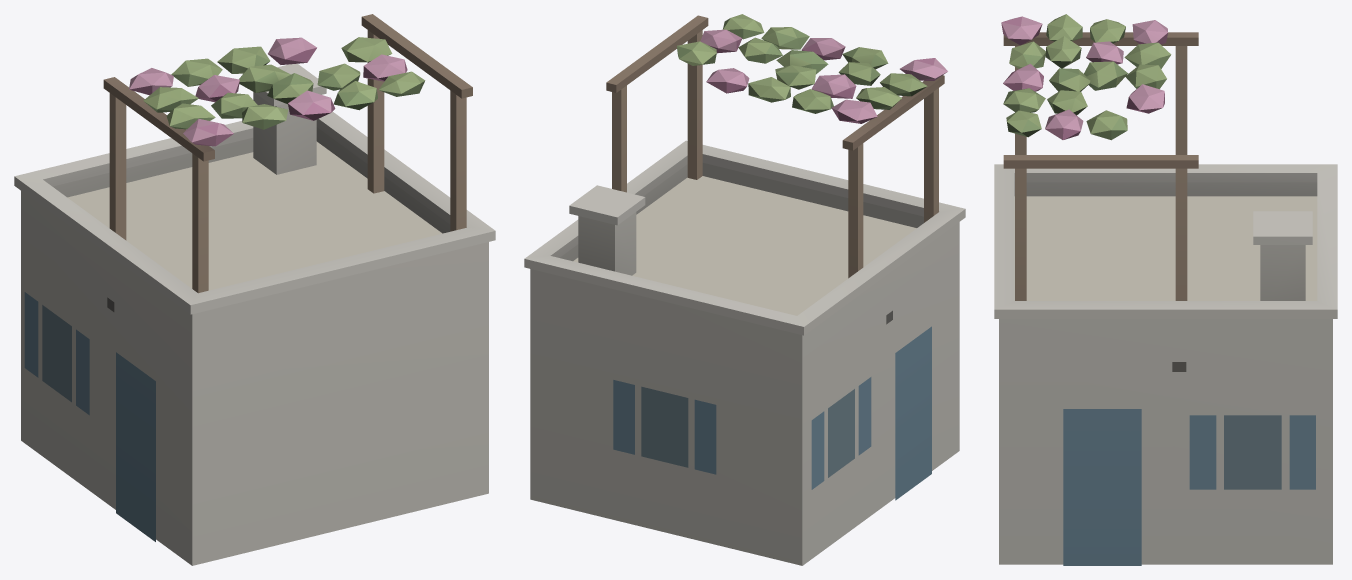
The picture shows the model from 3 angles, left to right: view 1: azimuth 30°, elevation 25°; view 2: azimuth 150°, elevation 25°; view 3: azimuth 270°, elevation 25°; orthographic projection. The views are drawn at different scales.
Size of the model in its own units: 4.4 by 5.9 by 4.4.
